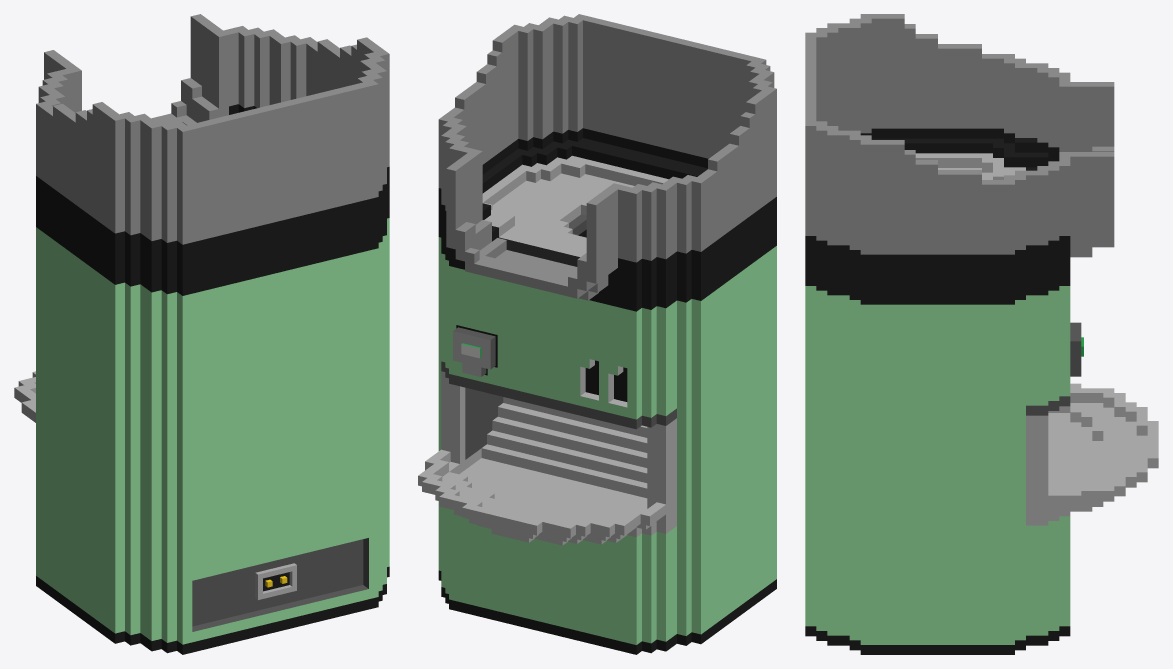
File: CoffeeGrinder.fbx
3 renders of one model, left to right at view 1: azimuth 30°, elevation 25°; view 2: azimuth 150°, elevation 25°; view 3: azimuth 270°, elevation 25°, orthographic. The views are drawn at different scales.
Parts seen in each view (by area): view 1: CoffeeGrinder, Shield; view 2: CoffeeGrinder, Shield, Button; view 3: CoffeeGrinder, Shield, Button.
Boxes of the visible parts, left/top/right/bottom form: CoffeeGrinder: left=14, top=104, right=389, bottom=654; Shield: left=36, top=14, right=389, bottom=244; CoffeeGrinder: left=418, top=128, right=776, bottom=654; Shield: left=438, top=14, right=776, bottom=300; Button: left=453, top=327, right=495, bottom=376; CoffeeGrinder: left=805, top=128, right=1158, bottom=654; Shield: left=805, top=14, right=1114, bottom=257; Button: left=1070, top=322, right=1083, bottom=376.
Size of the model in its own units: 280 by 510 by 320.
Materials: 2 (2 with a texture image).
